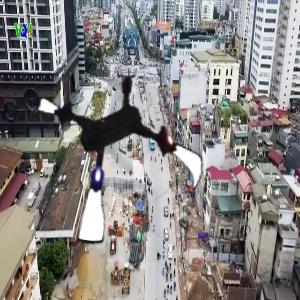drone: (19, 63, 210, 254)
